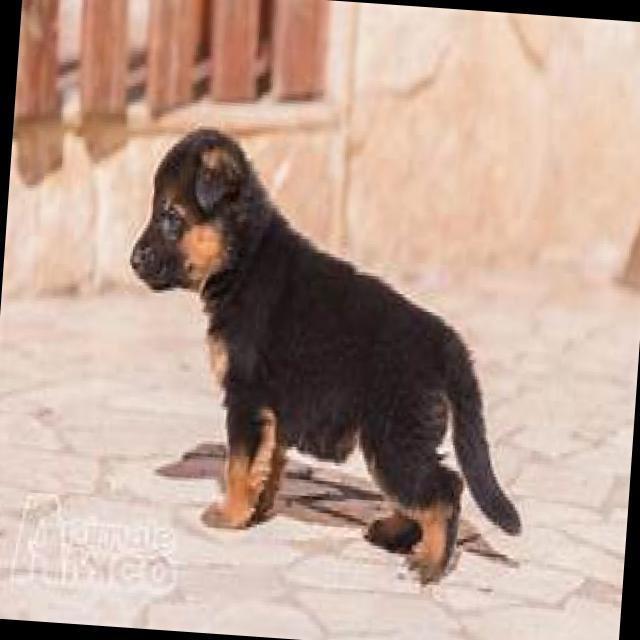animal: (106, 118, 548, 590)
